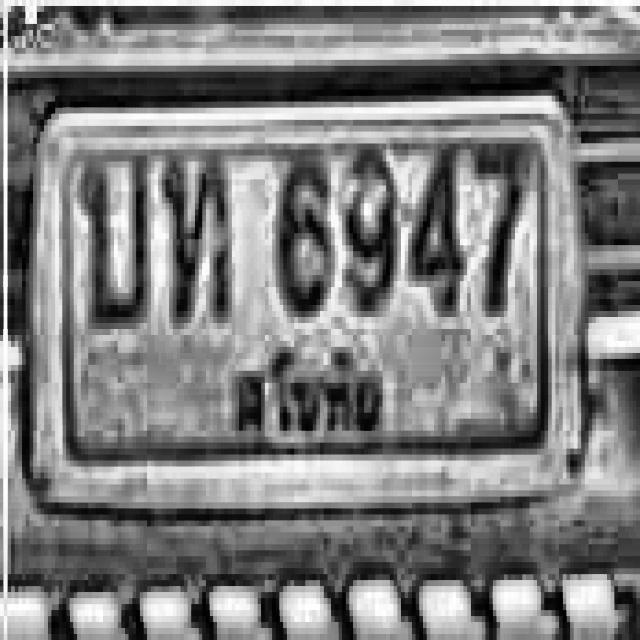license-plate: (29, 98, 590, 507)
